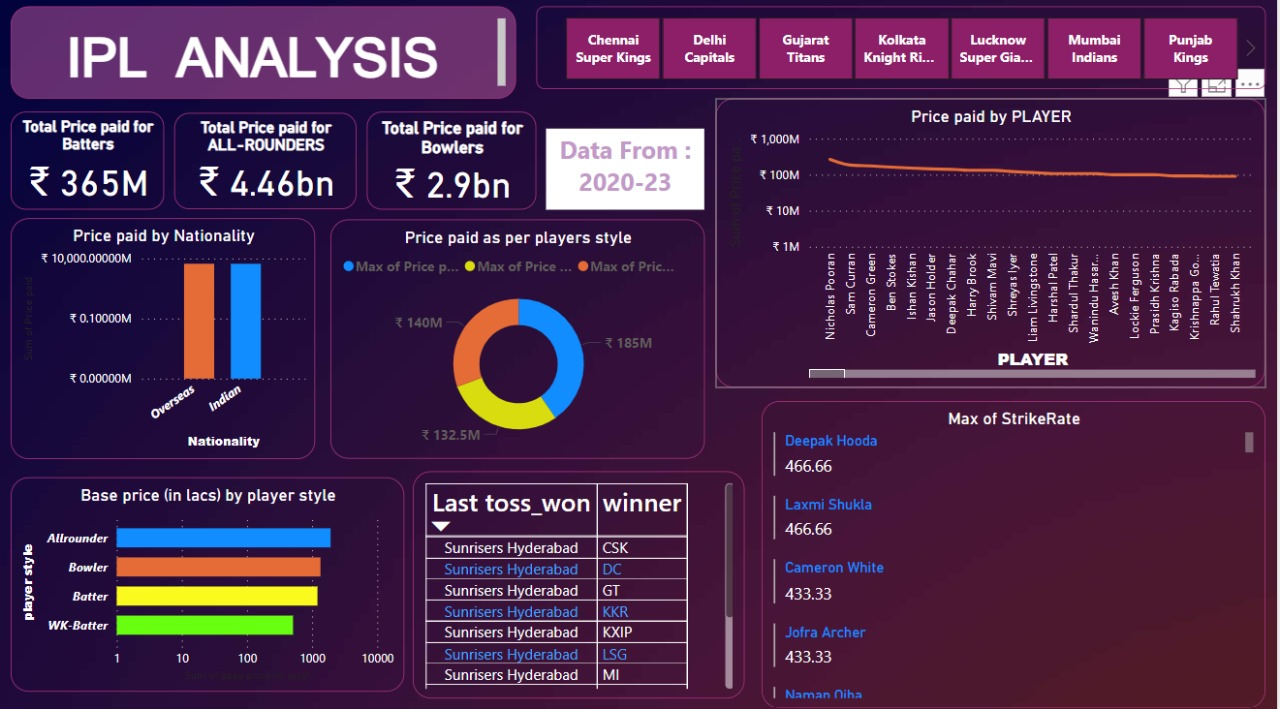

What the dashboard file says about the page in this screenshot:
{"tool":"powerbi","page":{"name":"Page 1","canvas":[1280,720],"ordinal":0},"visuals":[{"type":"columnChart","title":"Price paid by Nationality","fields":{"Category":["Sheet1.Nationality"],"Y":["Sum(Sheet1.Price paid)"]},"box":[19.2,222.5,303.6,240.4],"z":0},{"type":"lineChart","title":"Price paid by PLAYER","fields":{"Category":["Sheet1.PLAYER"],"Y":["Sum(Sheet1.Price paid)"]},"box":[721.2,103.7,547.5,288.2],"z":1000},{"type":"card","title":"Total Price paid for Batters","fields":{"Values":["Sum(batters.Price paid)"]},"box":[19.2,116.8,152.5,97.5],"z":2000},{"type":"card","title":"Total Price paid for ALL-ROUNDERS","fields":{"Values":["Sum(All rounders.Price paid)"]},"box":[182.7,118.1,181.3,96.2],"z":3000},{"type":"slicer","fields":{"Values":["Sheet1.Teams"]},"box":[542.7,12.1,726,82],"z":4000},{"type":"clusteredBarChart","title":"Base price (in lacs) by player style","fields":{"Category":["iplauction2023.player style"],"Y":["Sum(iplauction2023.base price (in lacs))"]},"box":[19.3,481.2,392,213.5],"z":5000},{"type":"tableEx","fields":{"Values":["Max(all venues 2008-2023 (2).toss_won)","all venues 2008-2023 (2).winner"]},"box":[419.7,475.2,330.5,226.7],"z":6000},{"type":"donutChart","title":"Price paid as per players style","fields":{"Y":["Max(All rounders.Price paid)","Max(batters.Price paid)","Max(bowlers.Price paid)"]},"box":[337.7,224.3,372.7,238.8],"z":7000},{"type":"card","title":"Total Price paid for Bowlers","fields":{"Values":["Sum(bowlers.Price paid)"]},"box":[373.6,116.8,169,97.5],"z":8000},{"type":"textbox","box":[19.3,12.1,502.9,91.7],"z":9000},{"type":"multiRowCard","title":"Max of StrikeRate","fields":{"Values":["Max(@@strike rates.strikeRate)","@@strike rates.fullName"]},"box":[767,405.2,501.7,306.3],"z":10000},{"type":"textbox","box":[552.4,133.9,158,80.8],"z":10001}]}

Visuals, with their boxes in screenshot pixels (x1, y1, x2, y2), scaled from the page's 1280x720 canvas onto the 1280x709 screenshot:
"Price paid by Nationality" columnChart: pyautogui.locateOnScreen(19, 219, 323, 456)
"Price paid by PLAYER" lineChart: pyautogui.locateOnScreen(721, 102, 1269, 386)
"Total Price paid for Batters" card: pyautogui.locateOnScreen(19, 115, 172, 211)
"Total Price paid for ALL-ROUNDERS" card: pyautogui.locateOnScreen(183, 116, 364, 211)
slicer - Sheet1.Teams: pyautogui.locateOnScreen(543, 12, 1269, 93)
"Base price (in lacs) by player style" clusteredBarChart: pyautogui.locateOnScreen(19, 474, 411, 684)
tableEx - Max(all venues 2008-2023 (2).toss_won) x all venues 2008-2023 (2).winner: pyautogui.locateOnScreen(420, 468, 750, 691)
"Price paid as per players style" donutChart: pyautogui.locateOnScreen(338, 221, 710, 456)
"Total Price paid for Bowlers" card: pyautogui.locateOnScreen(374, 115, 543, 211)
textbox: pyautogui.locateOnScreen(19, 12, 522, 102)
"Max of StrikeRate" multiRowCard: pyautogui.locateOnScreen(767, 399, 1269, 701)
textbox: pyautogui.locateOnScreen(552, 132, 710, 211)
